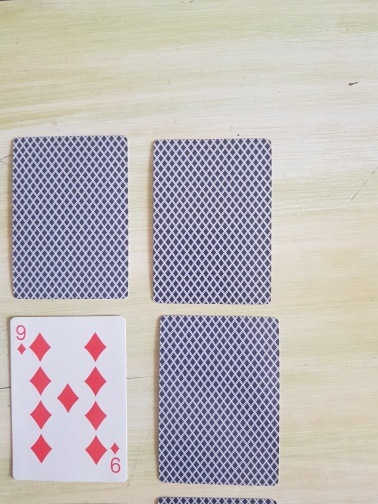nine: (9, 315, 129, 482)
